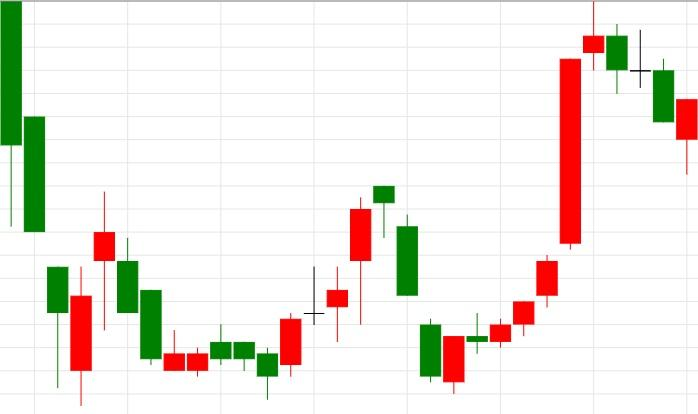evening_star_fall: (280, 186, 418, 376)
